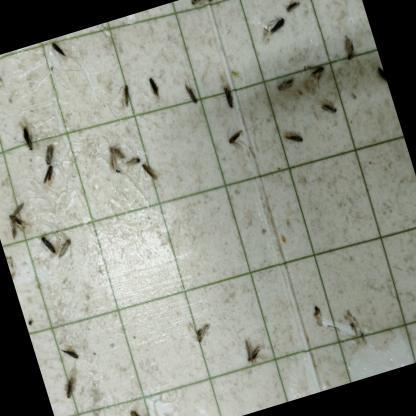prays_oleae: (208, 71, 250, 125), (277, 112, 314, 164), (215, 113, 252, 162), (171, 74, 210, 118), (2, 198, 36, 241), (314, 94, 353, 128), (47, 33, 78, 73), (258, 12, 294, 46), (106, 72, 137, 110), (54, 369, 84, 405), (54, 336, 84, 372), (270, 66, 301, 100), (186, 317, 216, 351), (32, 162, 66, 192), (188, 0, 225, 25), (140, 66, 165, 101), (277, 0, 309, 26), (14, 118, 37, 154), (51, 230, 78, 260), (36, 230, 60, 263), (368, 60, 390, 95), (240, 336, 264, 368), (104, 142, 127, 172), (121, 152, 144, 177), (310, 62, 332, 86), (123, 401, 154, 416), (40, 140, 60, 162), (141, 162, 159, 184), (341, 36, 358, 54)
